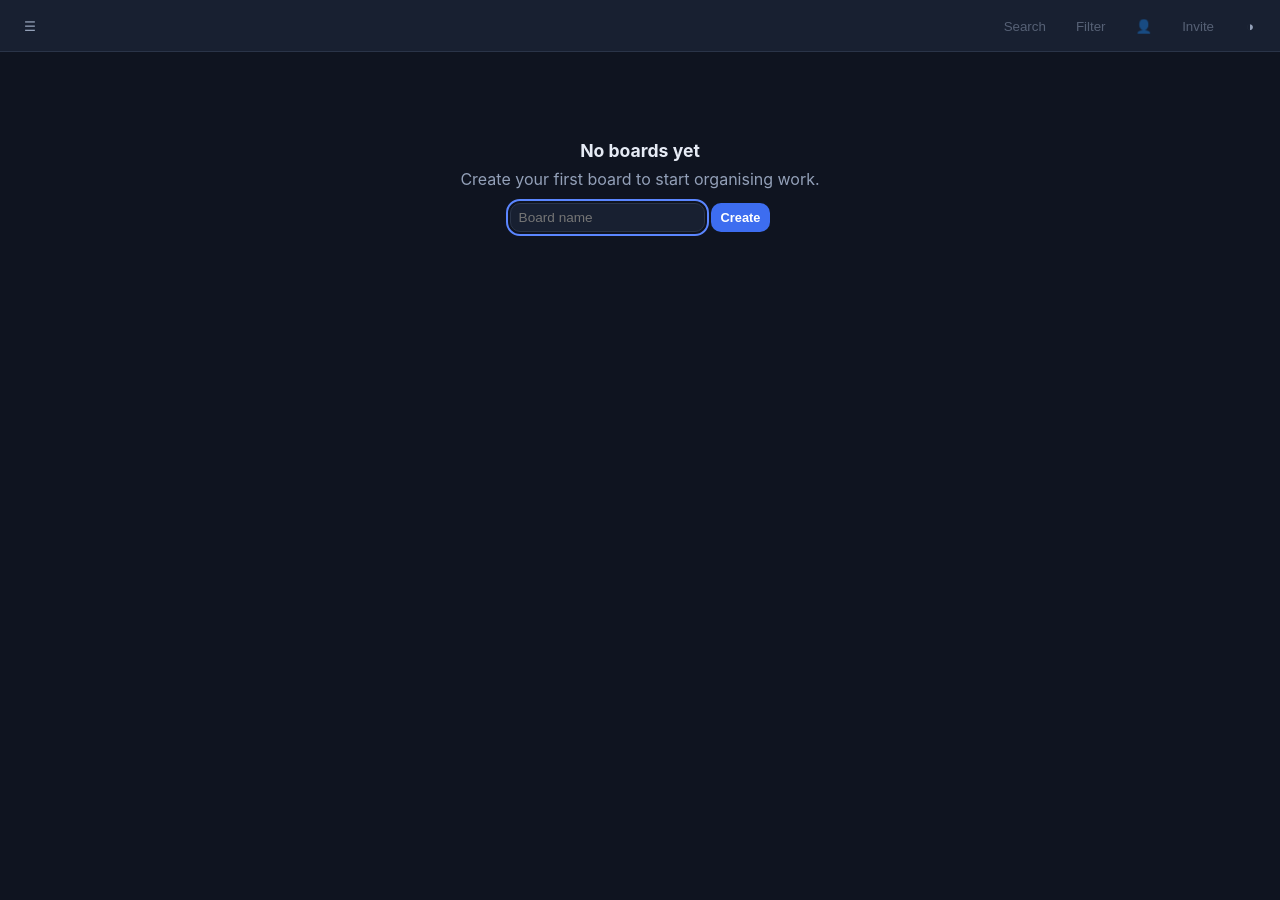
Test: AppShell narrow-viewport overlay (FB-03 spec §5 TAS-86 clarification) › exposes exactly one "Toggle sidebar" control and keeps the scrim out of the tab sequence
The width and height of the screenshot is (1280, 900).
Click the button named "Toggle sidebar" at (30, 26), box [14, 10, 46, 42]
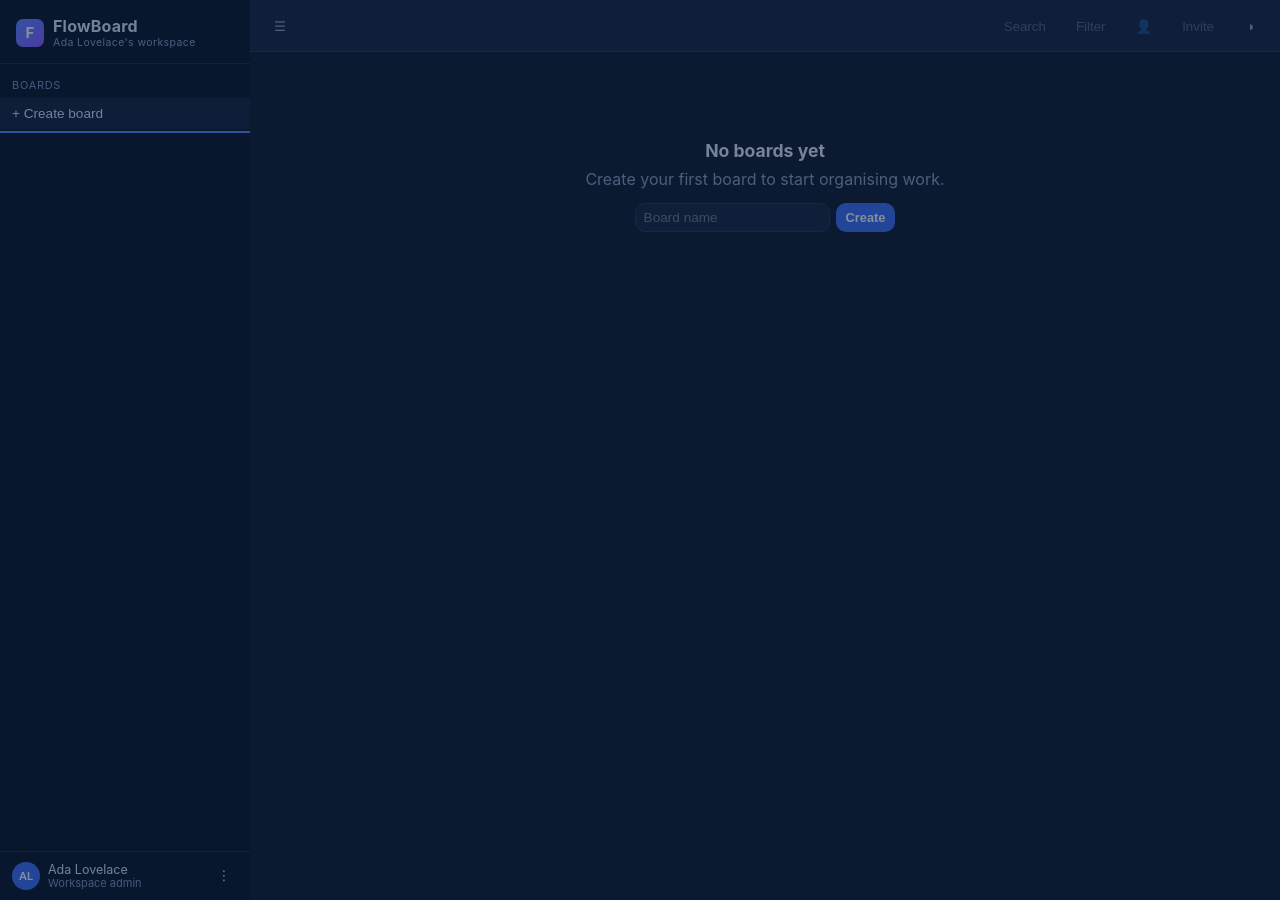
Expected: the number of buttons named "Toggle sidebar" is 1, [264, 10, 296, 42]
Expected: the element with class "shell__scrim" is shown
